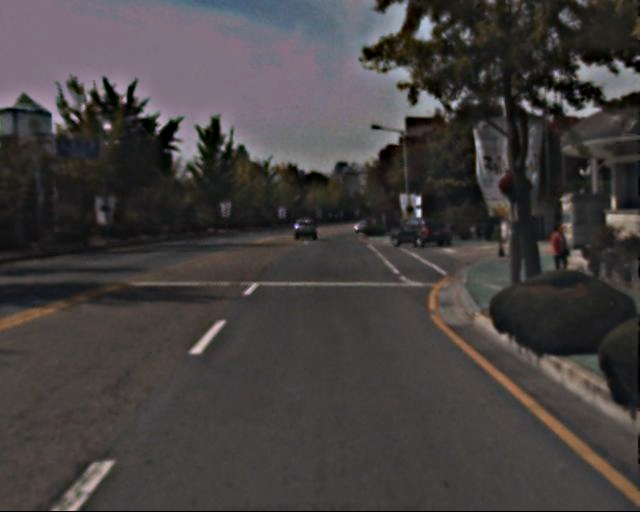person: (545, 221, 570, 283)
